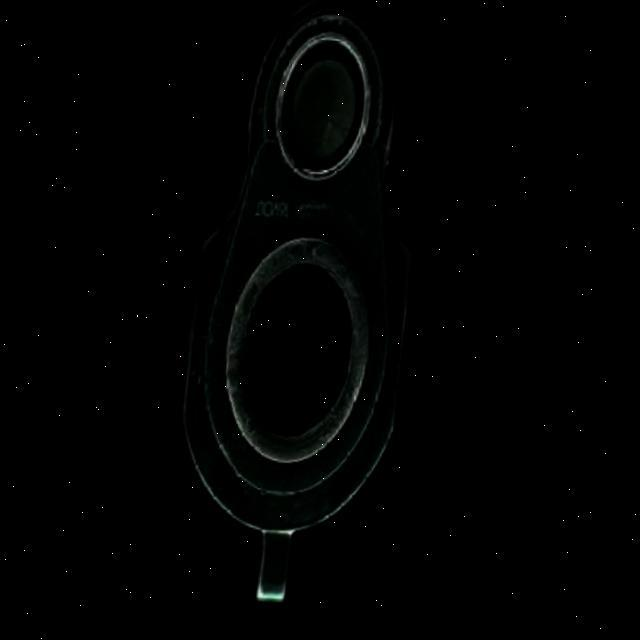gun: (164, 0, 450, 625)
